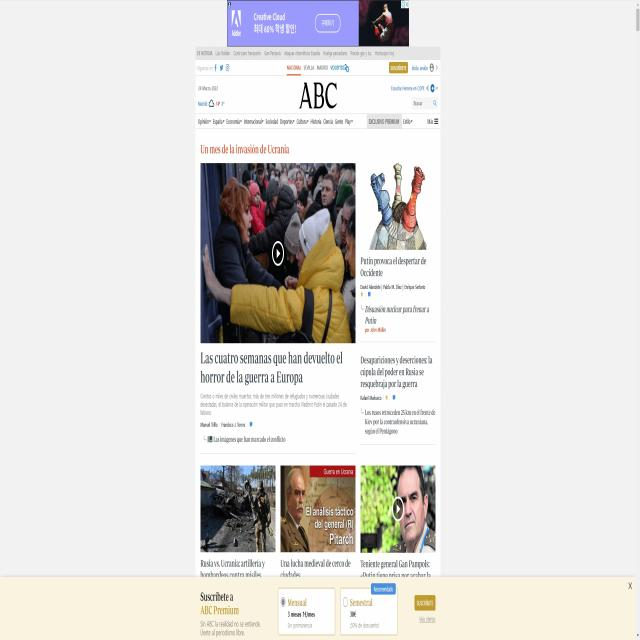menu-bar: (388, 62, 439, 78)
search: (412, 95, 438, 107)
tab-bar: (196, 114, 439, 130), (196, 48, 396, 59), (284, 60, 352, 78)
